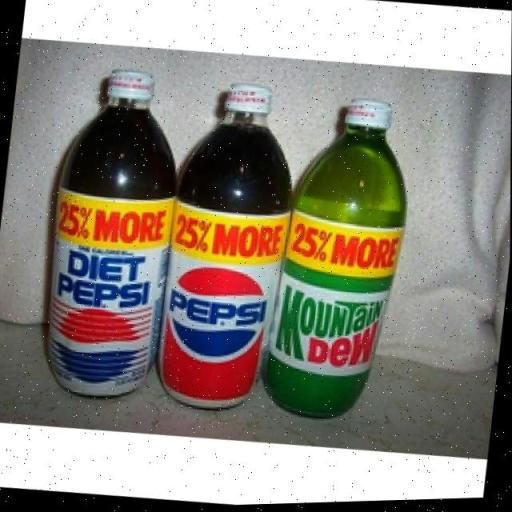plastic: (258, 90, 419, 428), (33, 60, 190, 404), (150, 75, 304, 417)
